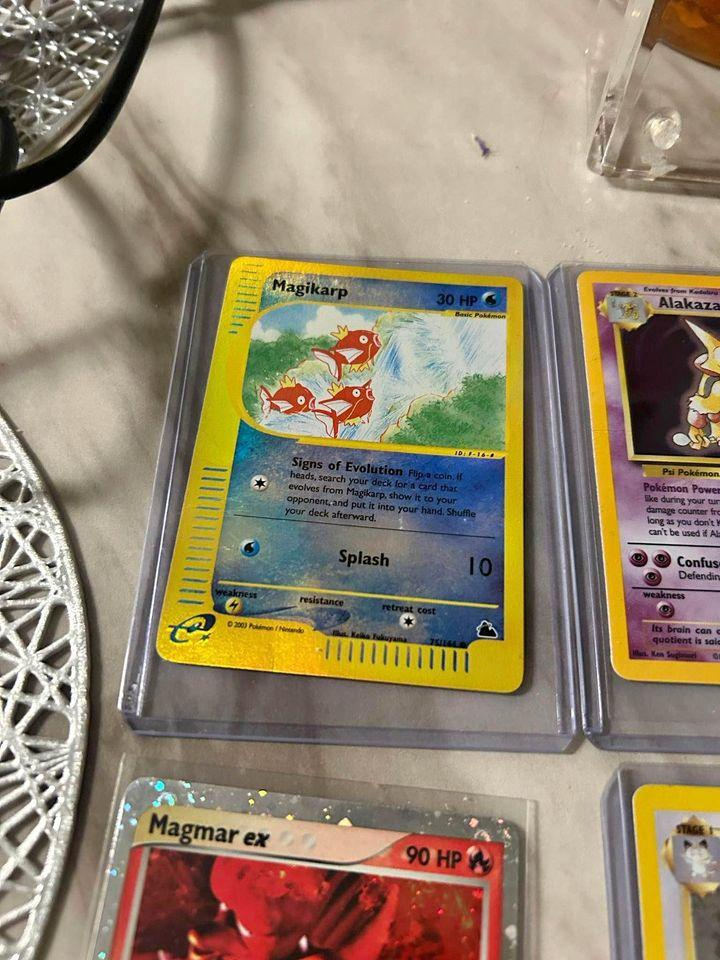card: (156, 255, 527, 698), (88, 772, 520, 959), (575, 269, 719, 688)
name: (272, 277, 348, 301)
set num: (426, 634, 459, 649)
set symbol: (166, 608, 220, 654)
